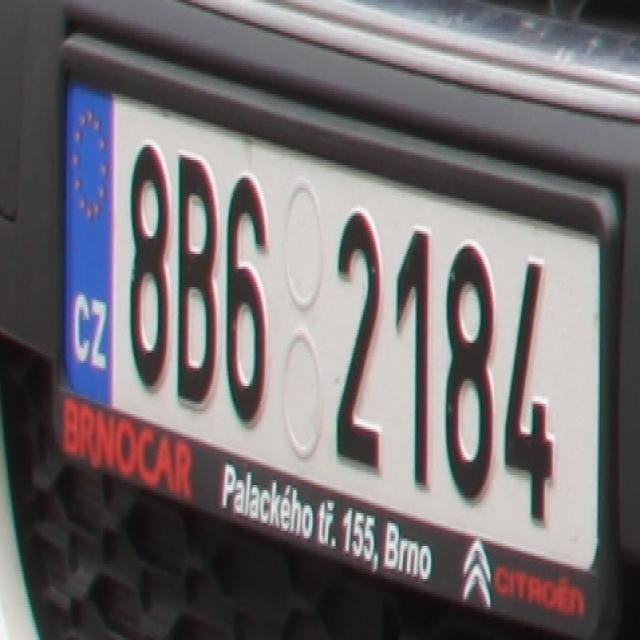1: (394, 221, 432, 490)
2: (331, 203, 383, 474)
4: (502, 254, 558, 523)
6: (223, 175, 270, 419)
8: (444, 238, 496, 501), (126, 137, 172, 384)
B: (174, 147, 218, 404)
